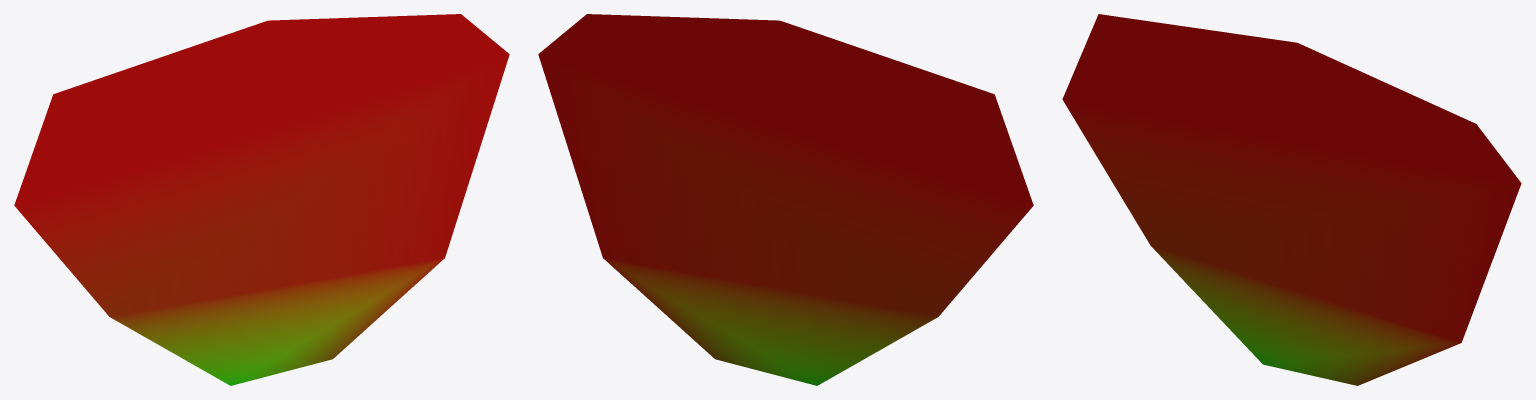
Rendered from Leptadenia_LOD5_Var5_xdkgfgtqx.fbx.
3 views of the same model, side by side, from view 1: azimuth 30°, elevation 25°; view 2: azimuth 150°, elevation 25°; view 3: azimuth 330°, elevation 25° (orthographic). The views are drawn at different scales.
Visible parts, largest first — view 1: _uhd2_Var5_LOD5; view 2: _uhd2_Var5_LOD5; view 3: _uhd2_Var5_LOD5.
Boxes of the visible parts, bbox=[...] form: _uhd2_Var5_LOD5: bbox=[14, 14, 509, 385]; _uhd2_Var5_LOD5: bbox=[538, 14, 1033, 385]; _uhd2_Var5_LOD5: bbox=[1062, 14, 1521, 385].
Size of the model in its own units: 133 by 91.34 by 6.1e-05.
